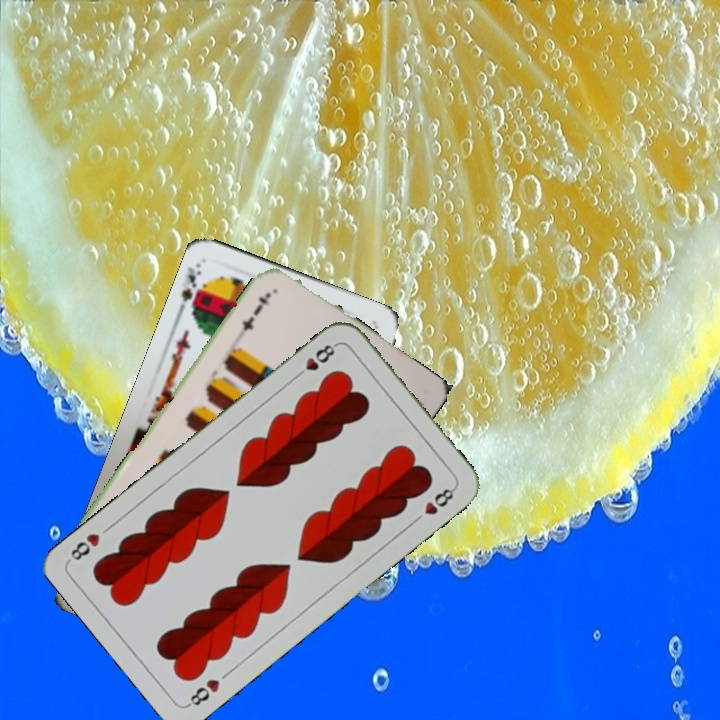E7: (237, 288, 274, 334)
H8: (290, 339, 340, 382), (183, 674, 223, 710)
SK: (174, 259, 209, 321)
